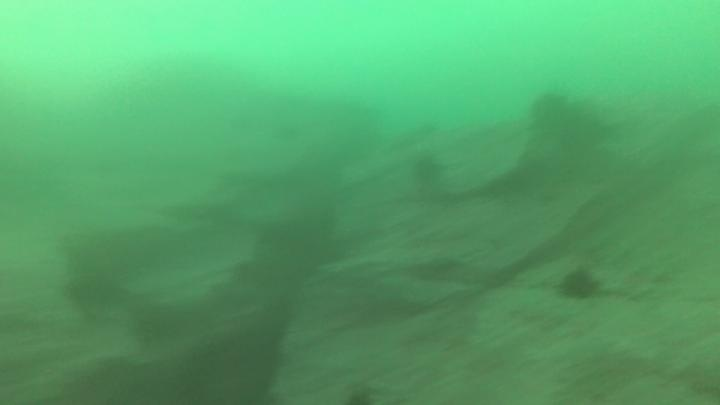echinus: (556, 265, 602, 304)
